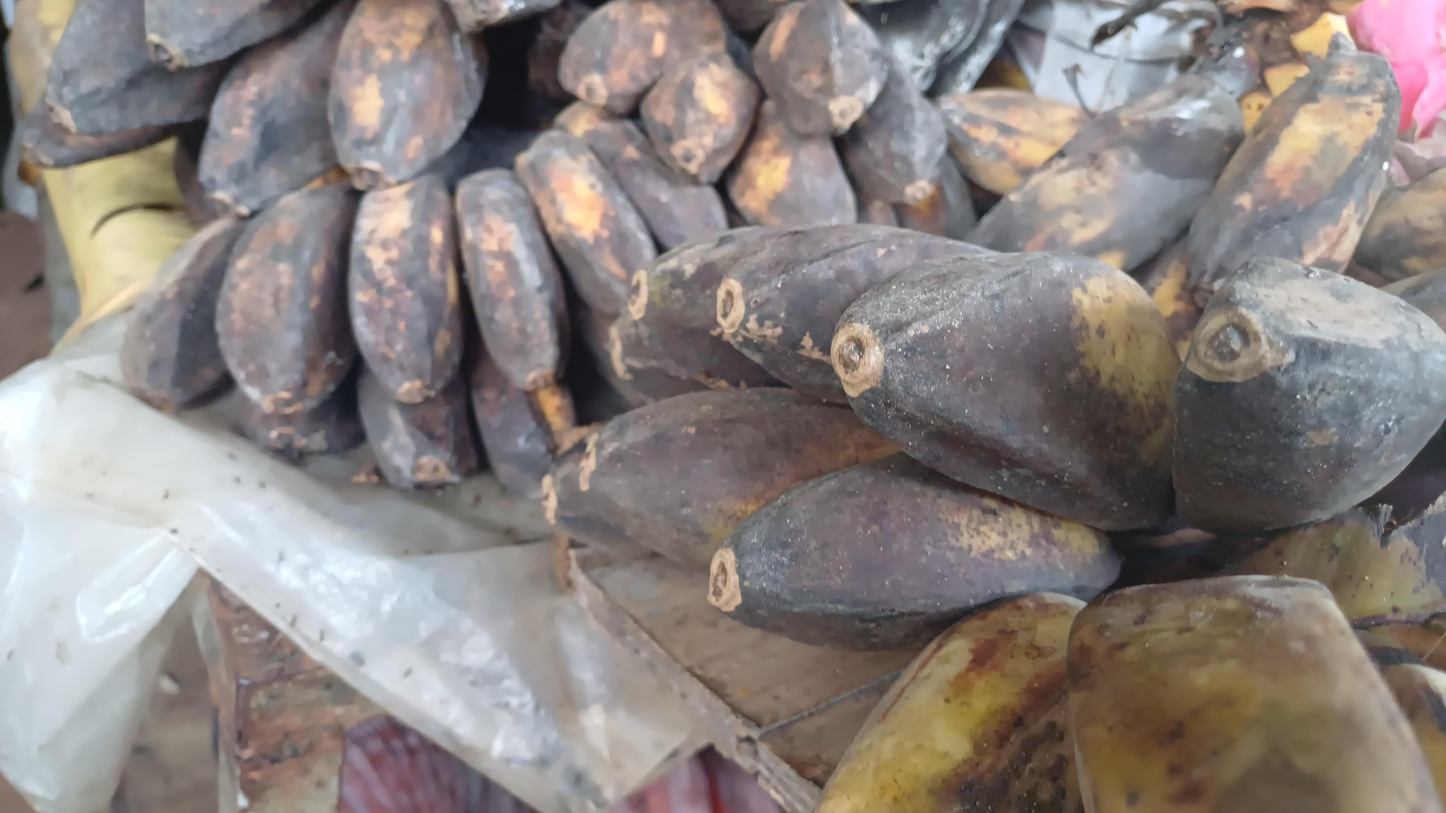overripe: (544, 224, 1446, 647), (123, 103, 727, 494), (966, 42, 1401, 341), (22, 0, 560, 216), (560, 0, 974, 238)
